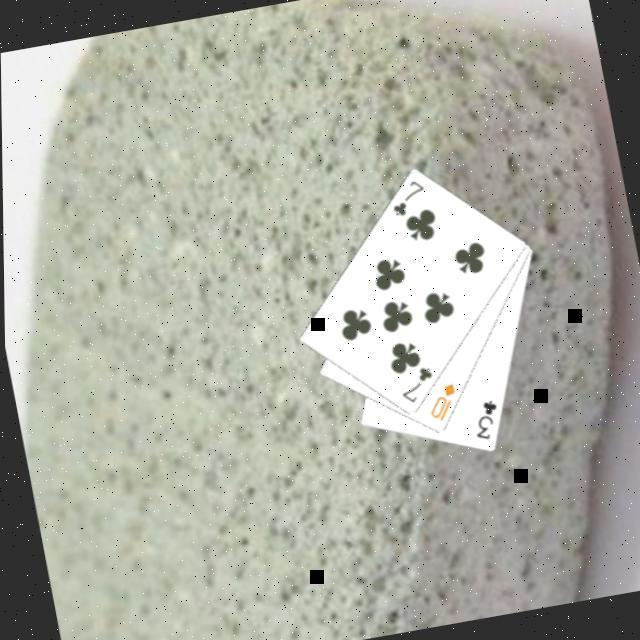10D: (418, 379, 462, 426)
3C: (464, 397, 504, 446)
7C: (382, 175, 431, 222), (392, 363, 438, 409)
